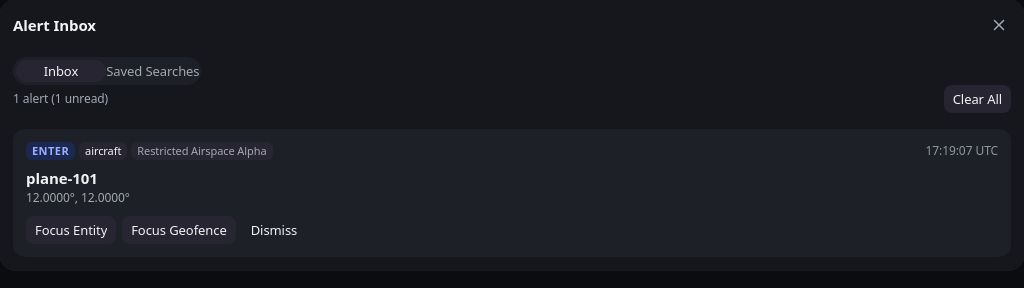
Test: AlertsPanel (Alert Inbox) › dismisses an individual alert and decrements unread count
The width and height of the screenshot is (1024, 288).
Step 1. Click the button "Dismiss" → coordinates (274, 230), box [242,216,306,244]
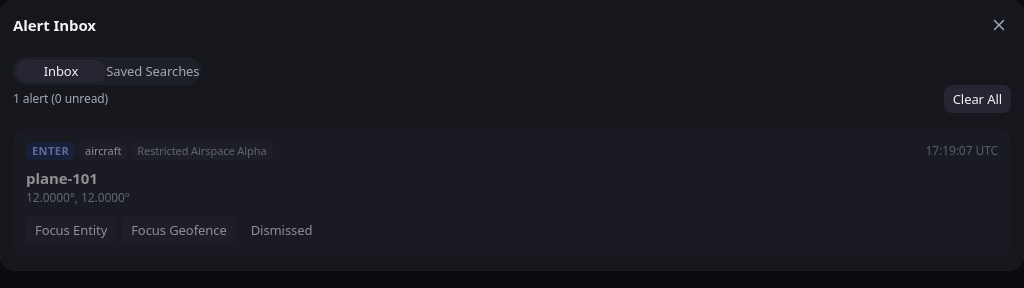
Now the button "Dismissed" is disabled, box [242,216,321,244]
